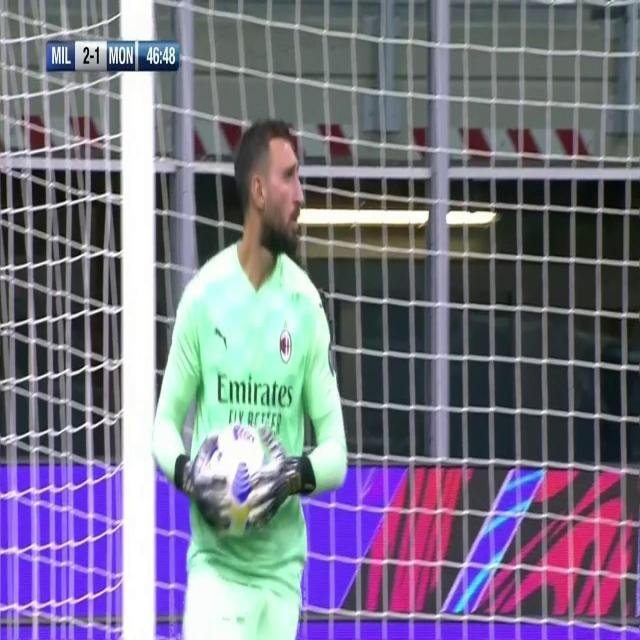ball: (206, 404, 284, 546)
goalkeeper: (151, 107, 354, 640)
